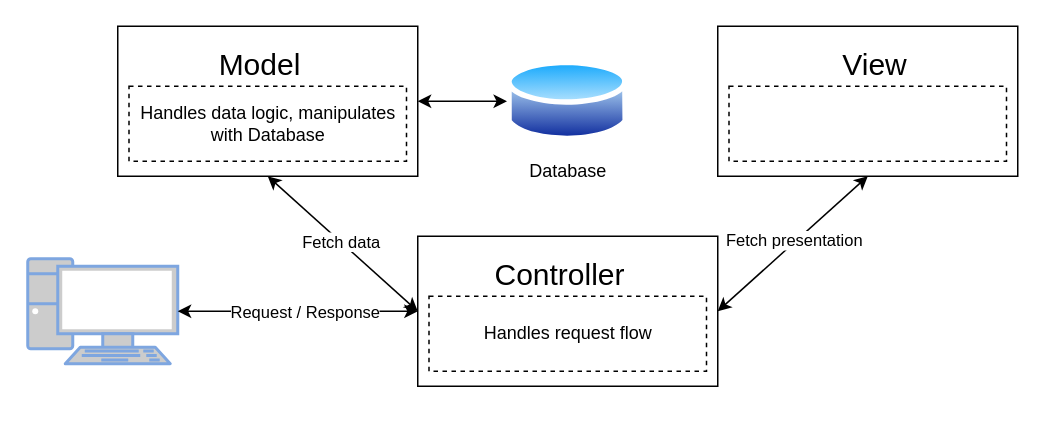
This 1044x422 diagram has some shape labels left out. Here are the shapes that lost their labels. From the top down, the centre of each, then its label:
At pixel 867 123: "Handles data representation, dynamically rendered".
At pixel 102 310: "User".
